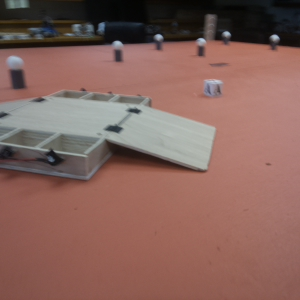blockA: (201, 78, 225, 99)
corner: (203, 13, 217, 41)
obstacle: (6, 53, 28, 91), (109, 40, 125, 64), (194, 37, 206, 57), (268, 36, 280, 51), (154, 32, 162, 52), (221, 32, 232, 45)
side: (1, 124, 98, 178), (47, 85, 152, 104)
slope: (105, 106, 216, 170)
start: (209, 59, 232, 74)
